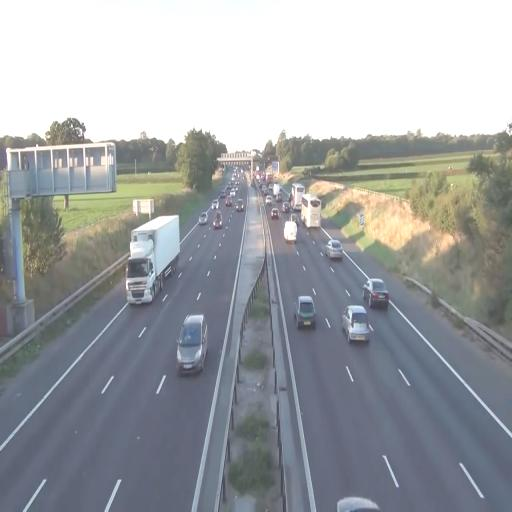vehicle: (126, 214, 182, 306), (176, 313, 208, 376), (342, 304, 372, 344), (362, 279, 390, 311), (294, 296, 316, 330), (301, 196, 322, 229), (327, 240, 343, 264), (284, 220, 298, 244), (212, 214, 222, 230), (270, 206, 278, 220), (200, 212, 208, 224)
